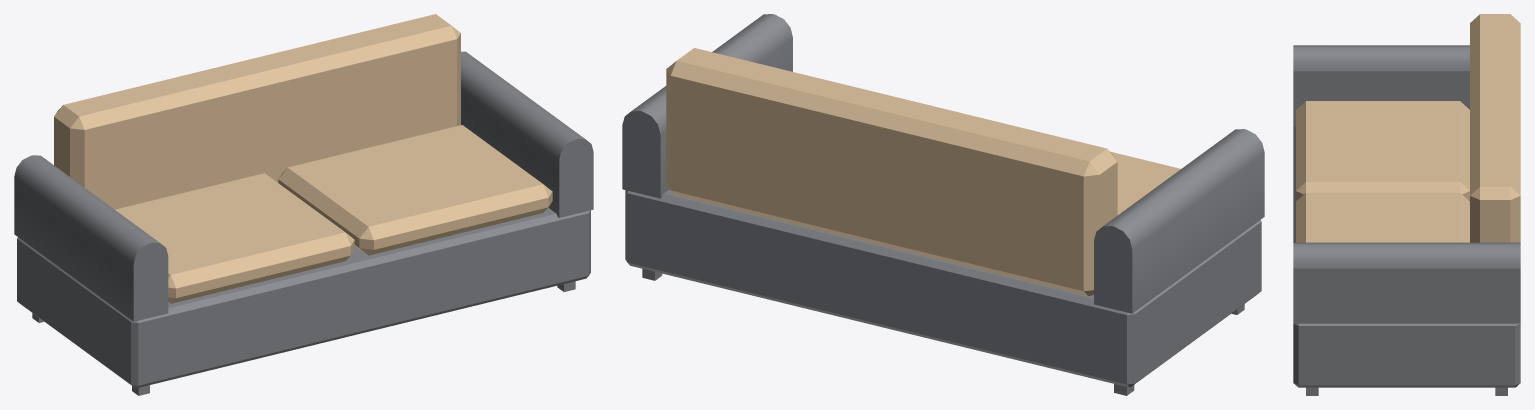
The model's file is sofa.glb.
3 views of the same model, side by side, from view 1: azimuth 30°, elevation 25°; view 2: azimuth 150°, elevation 25°; view 3: azimuth 270°, elevation 25° (orthographic). The views are drawn at different scales.
Visible parts, largest first — view 1: sofa; view 2: sofa; view 3: sofa.
Boxes of the visible parts, left/top/right/bottom form: sofa: left=14, top=14, right=593, bottom=395; sofa: left=622, top=14, right=1264, bottom=395; sofa: left=1293, top=14, right=1520, bottom=395.
Bounding box in the file's own units: 2 × 0.85 × 0.9.
